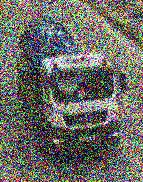truck: (17, 18, 128, 158)
